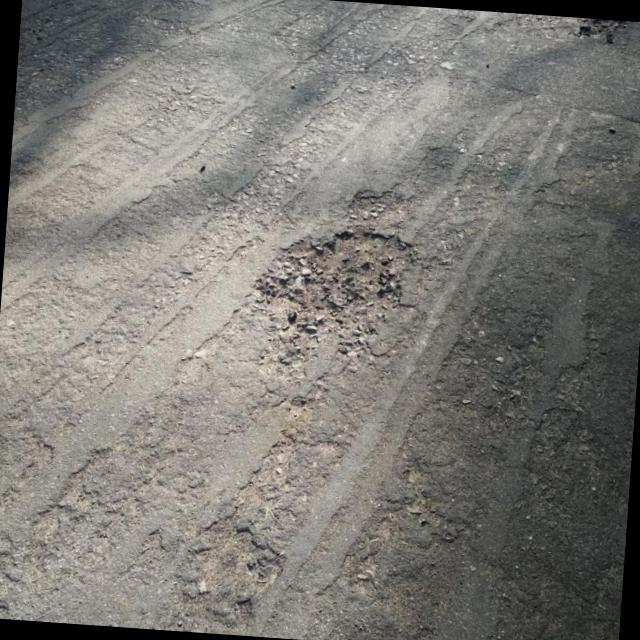Lubang: (252, 228, 417, 389)
